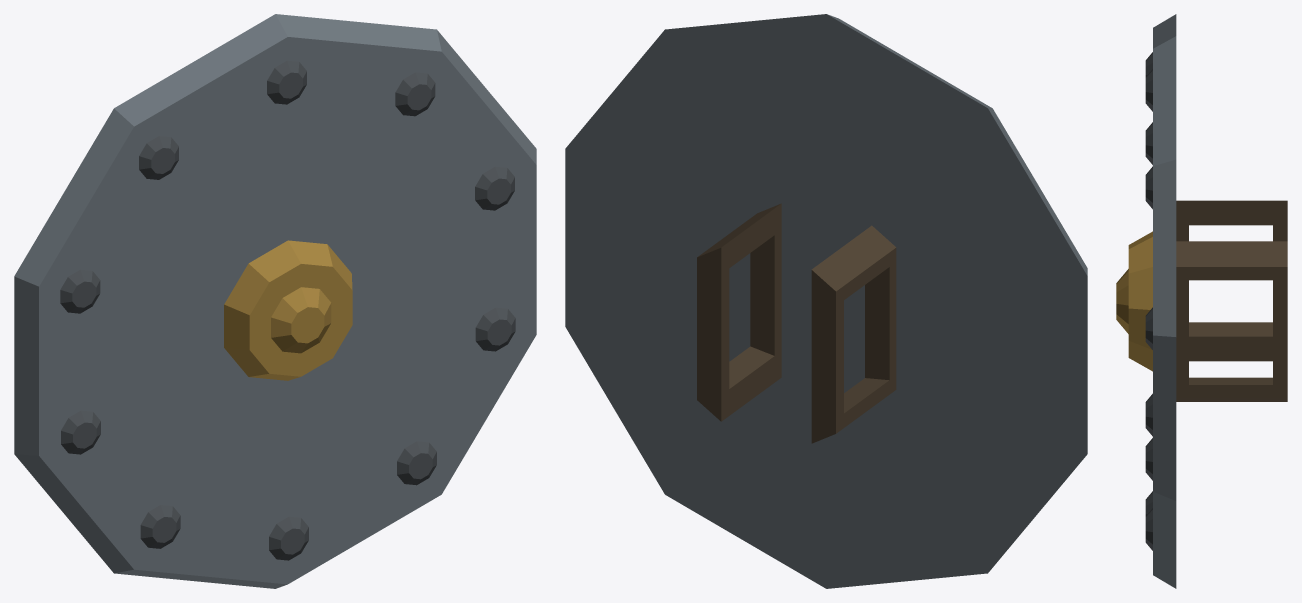
File: Shield.glb
The picture shows the model from 3 angles, left to right: view 1: azimuth 30°, elevation 25°; view 2: azimuth 150°, elevation 25°; view 3: azimuth 270°, elevation 25°; orthographic projection. The views are drawn at different scales.
Visible parts, largest first — view 1: Shield; view 2: Shield; view 3: Shield.
Part boxes in pixels (bbox=[...]): Shield: bbox=[14, 14, 536, 588]; Shield: bbox=[565, 14, 1087, 588]; Shield: bbox=[1116, 14, 1287, 588].
Size of the model in its own units: 0.4414 by 0.4641 by 0.1358.
Materials: 1 (1 with a texture image).
